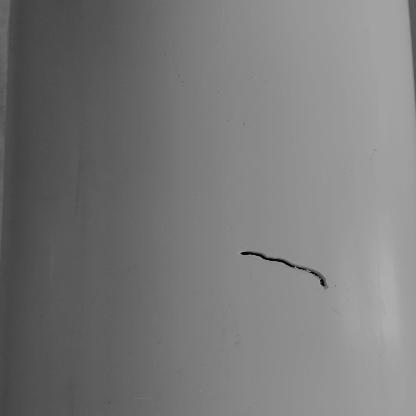fengxi: (239, 249, 332, 292)
